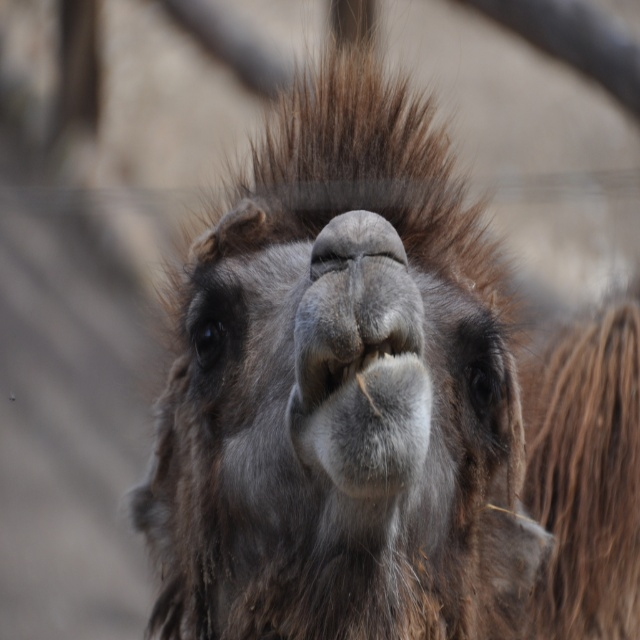Camel: (117, 0, 640, 639)
